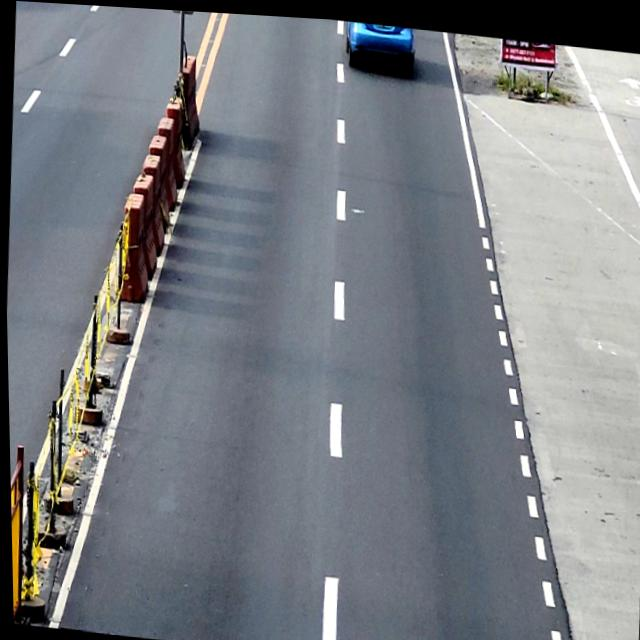Car: (344, 17, 417, 71)
